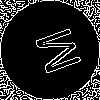M: (25, 25, 82, 80)
